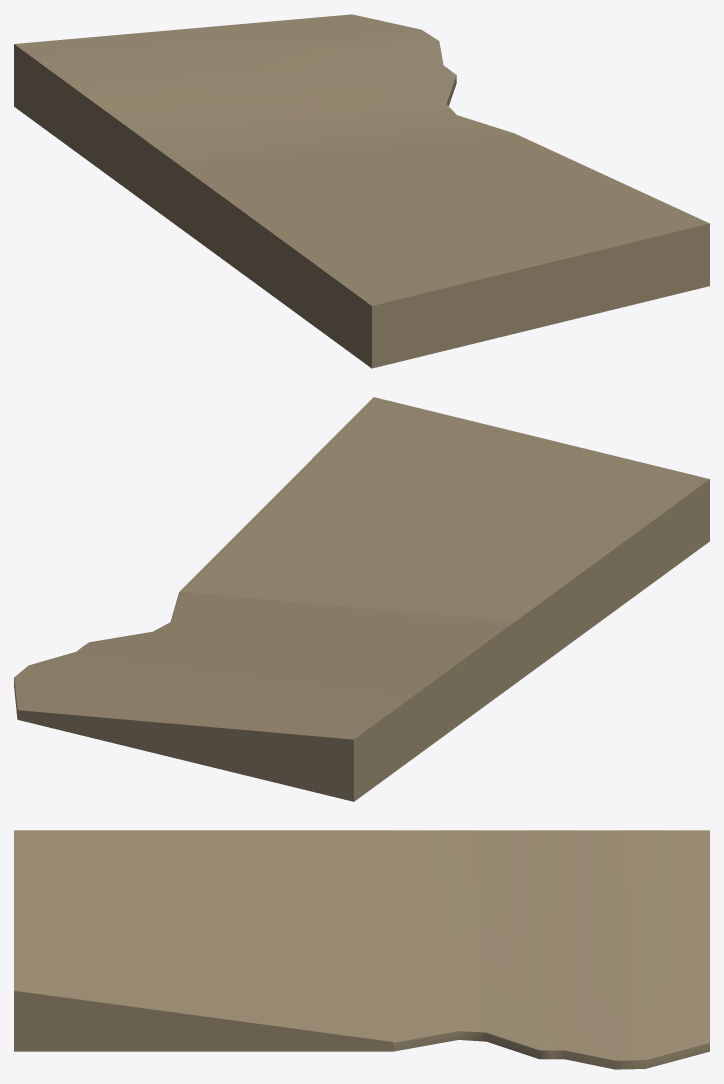
The model's file is Ground End.fbx.
3 renders of one model, top to bottom at view 1: azimuth 30°, elevation 25°; view 2: azimuth 150°, elevation 25°; view 3: azimuth 270°, elevation 25°, orthographic. The views are drawn at different scales.
Parts seen in each view (by area): view 1: pCube39; view 2: pCube39; view 3: pCube39.
Boxes of the visible parts, x1=… form: pCube39: x1=14, y1=14, x2=709, y2=368; pCube39: x1=14, y1=397, x2=709, y2=801; pCube39: x1=14, y1=830, x2=709, y2=1069.
Size of the model in its own units: 7.01 by 1.11 by 11.54.
